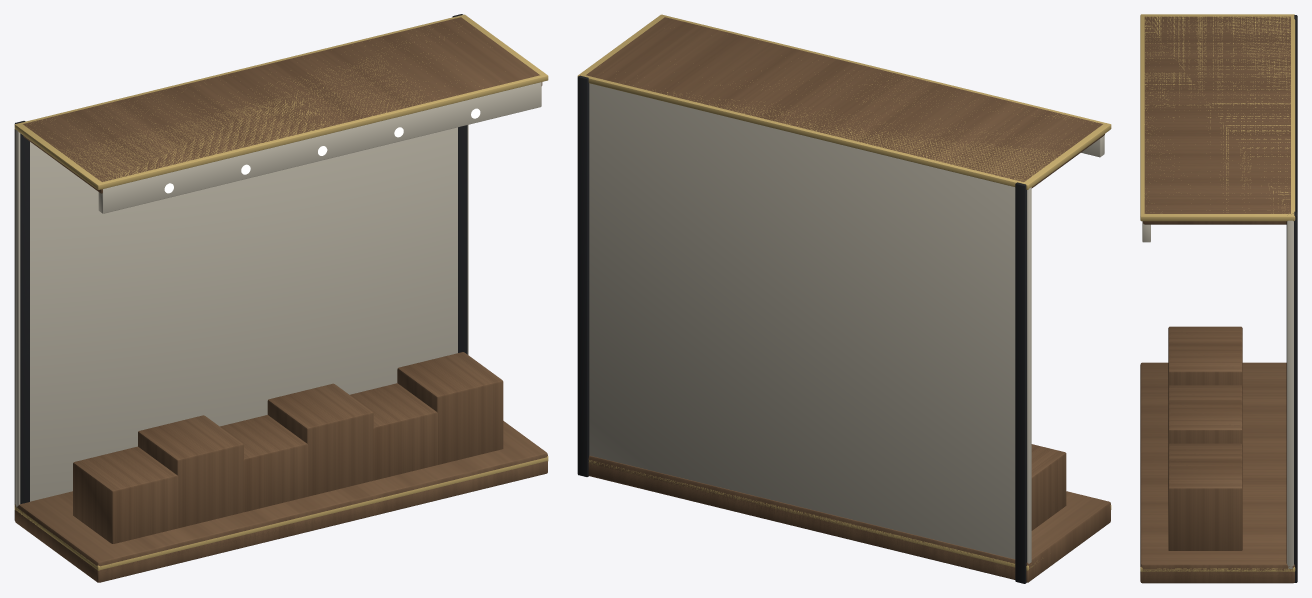
The model's file is pf_display_window_display_t5.glb.
3 renders of one model, left to right at view 1: azimuth 30°, elevation 25°; view 2: azimuth 150°, elevation 25°; view 3: azimuth 270°, elevation 25°, orthographic. The views are drawn at different scales.
Parts seen in each view (by area): view 1: Window_Backdrop, Crown_Main, Window_Display_Platform, Header_Back, Crown_Trim, Display_Plinth_01, Display_Plinth_06, Display_Plinth_02, Display_Plinth_04, Plinth_Base, Display_Plinth_03, Display_Plinth_05 (+3 smaller); view 2: Window_Backdrop, Crown_Main, Window_Display_Platform, Crown_Trim, Plinth_Base, Window_Frame_+1.51, Window_Frame_-1.51, Display_Plinth_01, Plinth_Trim; view 3: Crown_Main, Window_Display_Platform, Crown_Trim, Display_Plinth_06, Display_Plinth_02, Display_Plinth_04, Window_Backdrop, Window_Frame_+1.51, Plinth_Base, Display_Plinth_01, Display_Plinth_05, Display_Plinth_03 (+2 smaller).
Boxes of the visible parts, bbox=[...] form: Window_Backdrop: bbox=[15, 125, 468, 506]; Crown_Main: bbox=[23, 17, 542, 193]; Window_Display_Platform: bbox=[15, 421, 547, 580]; Header_Back: bbox=[98, 82, 541, 213]; Crown_Trim: bbox=[14, 14, 548, 189]; Display_Plinth_01: bbox=[73, 446, 178, 543]; Display_Plinth_06: bbox=[397, 352, 503, 464]; Display_Plinth_02: bbox=[138, 415, 243, 528]; Display_Plinth_04: bbox=[267, 383, 373, 496]; Plinth_Base: bbox=[15, 461, 547, 582]; Display_Plinth_03: bbox=[220, 415, 308, 512]; Display_Plinth_05: bbox=[350, 383, 437, 480]; Window_Backdrop: bbox=[589, 83, 1031, 563]; Crown_Main: bbox=[586, 17, 1104, 188]; Window_Display_Platform: bbox=[588, 455, 1110, 580]; Crown_Trim: bbox=[577, 14, 1111, 189]; Plinth_Base: bbox=[588, 463, 1110, 582]; Window_Frame_+1.51: bbox=[577, 75, 589, 476]; Window_Frame_-1.51: bbox=[1015, 182, 1026, 583]; Display_Plinth_01: bbox=[1031, 444, 1066, 530]; Plinth_Trim: bbox=[588, 460, 1111, 570]; Crown_Main: bbox=[1143, 16, 1290, 224]; Window_Display_Platform: bbox=[1140, 362, 1294, 581]; Crown_Trim: bbox=[1140, 14, 1295, 221]; Display_Plinth_06: bbox=[1168, 458, 1242, 550]; Display_Plinth_02: bbox=[1168, 341, 1242, 386]; Display_Plinth_04: bbox=[1168, 400, 1242, 444]; Window_Backdrop: bbox=[1287, 220, 1293, 568]; Window_Frame_+1.51: bbox=[1286, 211, 1297, 582]; Plinth_Base: bbox=[1140, 571, 1294, 583]; Display_Plinth_01: bbox=[1168, 326, 1242, 342]; Display_Plinth_05: bbox=[1168, 443, 1242, 459]; Display_Plinth_03: bbox=[1168, 385, 1242, 401].
Bounding box in the file's own units: 3.1 × 2.62 × 1.01.
Materials: 6 (2 with a texture image).
